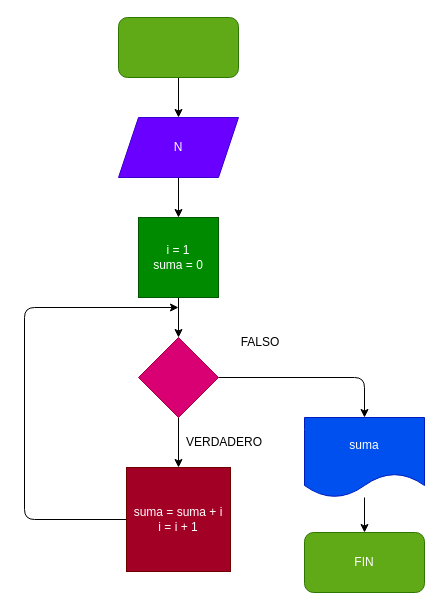
This 442x610 diagram has some shape labels left out. Here are the shapes that lost their labels. From the top down, the centre of each, then its label:
point 178,47: INICIO
point 178,377: i <= n
